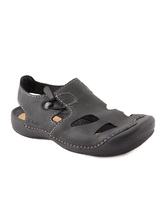shoes: (11, 76, 158, 158)
